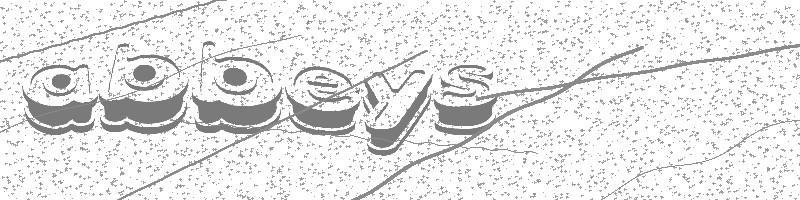a: (21, 63, 98, 136)
b: (193, 40, 284, 137), (99, 42, 191, 135)
e: (285, 65, 362, 138)
s: (434, 62, 499, 137)
y: (362, 67, 433, 157)
